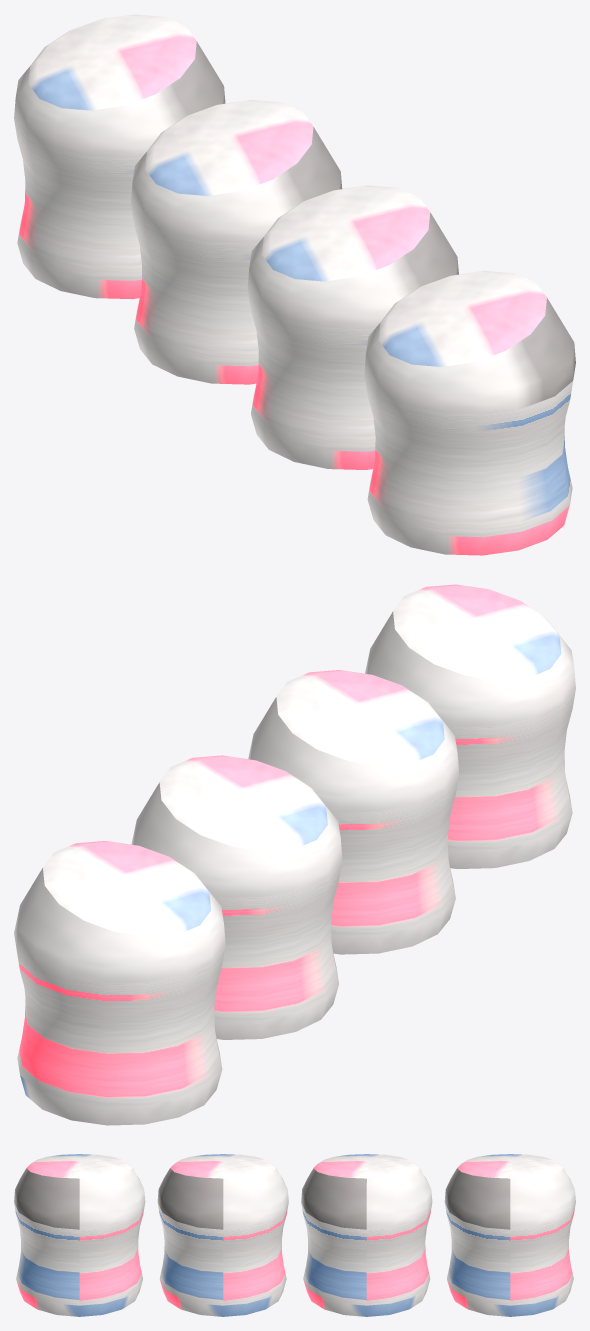
Rendered from Blue_Skittles.fbx.
The picture shows the model from 3 angles, top to bottom: view 1: azimuth 30°, elevation 25°; view 2: azimuth 150°, elevation 25°; view 3: azimuth 270°, elevation 25°; orthographic projection. The views are drawn at different scales.
Parts seen in each view (by area): view 1: Blue_Skittles_Blue_Skittles; view 2: Blue_Skittles_Blue_Skittles; view 3: Blue_Skittles_Blue_Skittles.
Part boxes in pixels (<box>): Blue_Skittles_Blue_Skittles: <box>14,14,575,555</box>; Blue_Skittles_Blue_Skittles: <box>14,584,575,1125</box>; Blue_Skittles_Blue_Skittles: <box>14,1154,575,1316</box>.
Bounding box in the file's own units: 10.98 × 12.45 × 46.98.
